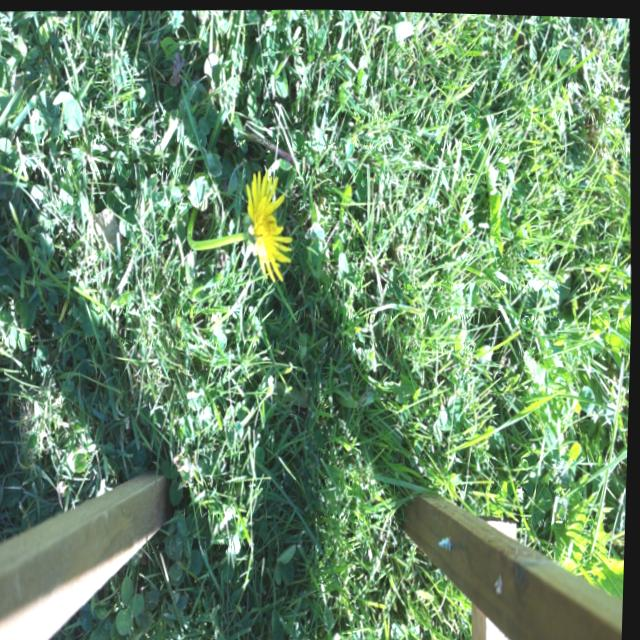base: (238, 114, 264, 157), (185, 193, 207, 224)
